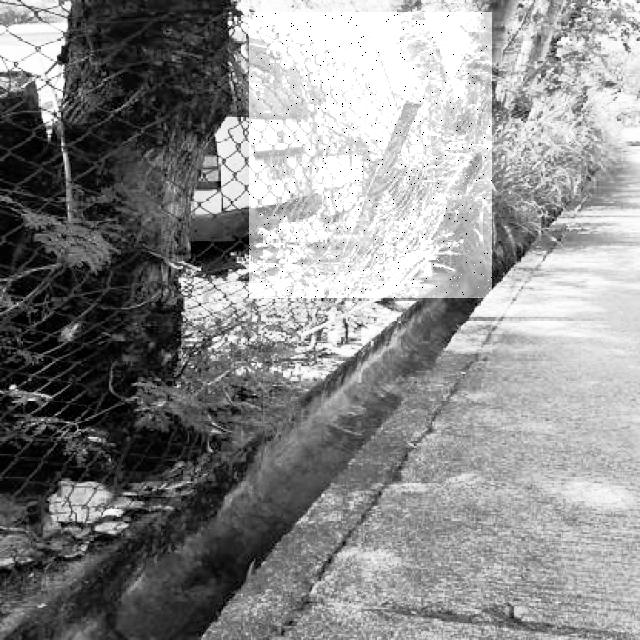anomaly-fence: (249, 12, 492, 298)
